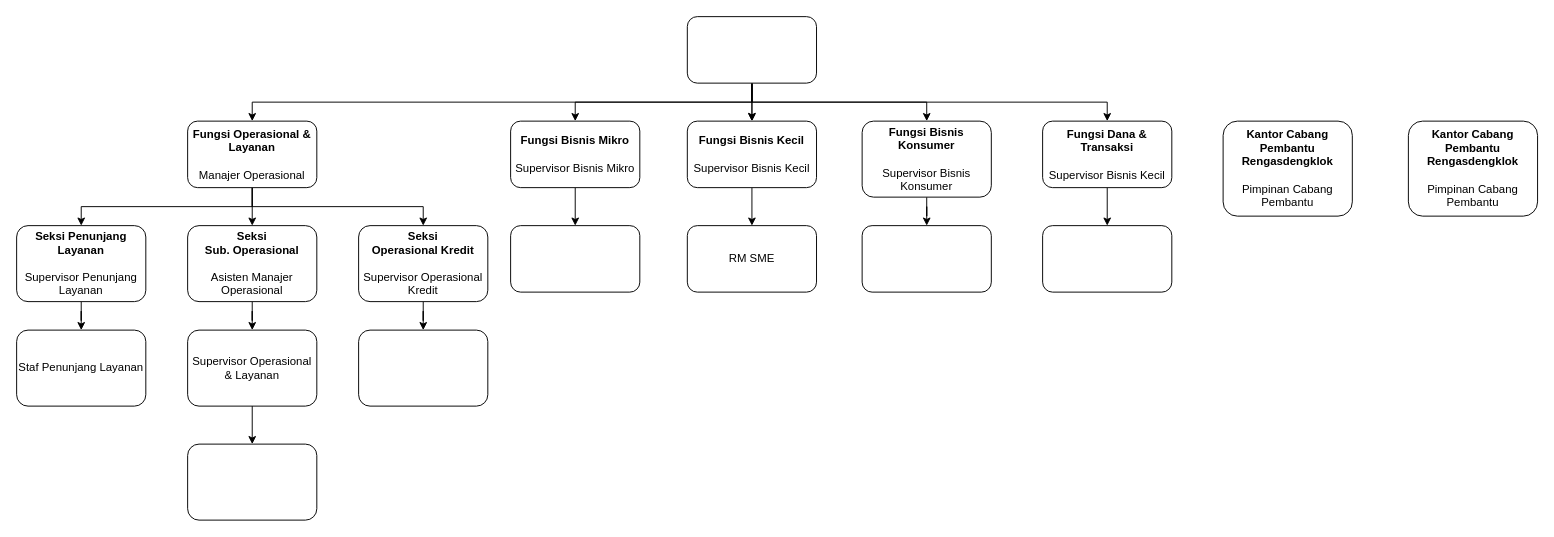
The diagram is 1554 pixels wide and 537 high, and some of its shapes have lost their labels. The centre of each missing label's shape, as x and y in pixels:
"28 Unit BRI" belongs at [575,258].
"CS & Teller" belongs at [252,481].
"Kantor Cabang Karawang Pimpinan Cabang" belongs at [751,49].
"RM Dana & Transaksi" belongs at [1107,258].
"RM Konsumer" belongs at [926,258].
"Staf Operasional Kredit" belongs at [423,367].
